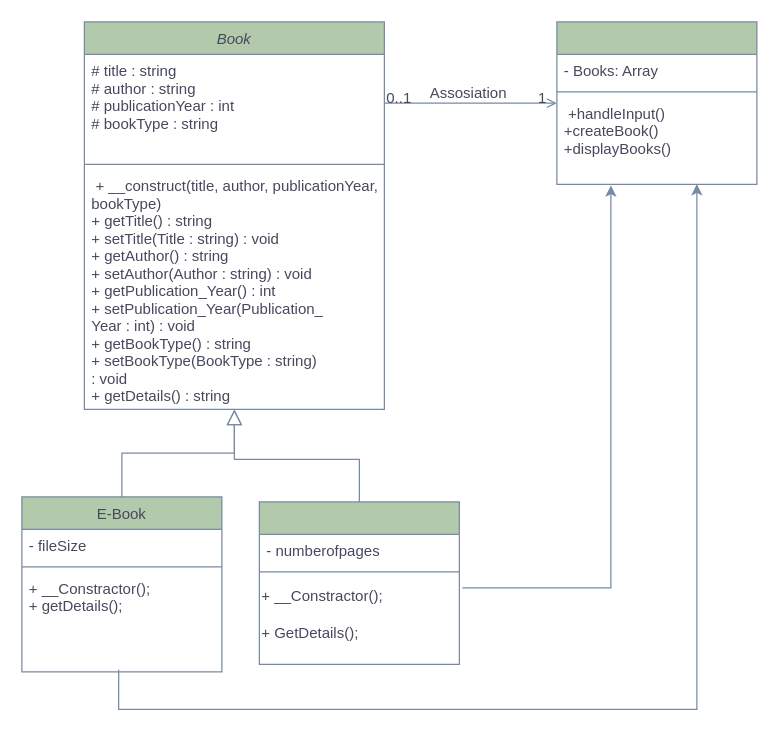
Image size: 779x741. Some labels were removed from this diagram. The shapes that lost their labels are listed below. From the top down, each one's box as (x1, y1, x2, y2) in pixels, then its label:
(556, 21, 757, 184): Main
(258, 501, 459, 664): Printed Book
